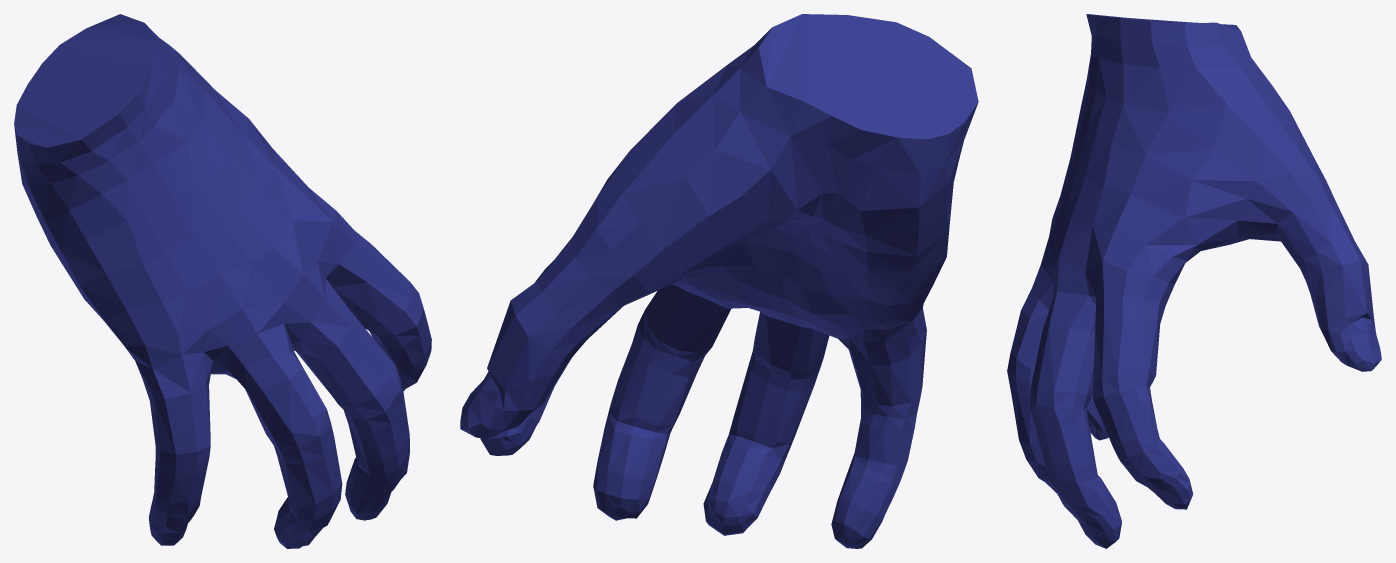
3 renders of one model, left to right at view 1: azimuth 30°, elevation 25°; view 2: azimuth 150°, elevation 25°; view 3: azimuth 270°, elevation 25°, orthographic. The views are drawn at different scales.
Size of the model in its own units: 0.1361 by 0.1648 by 0.1246.
